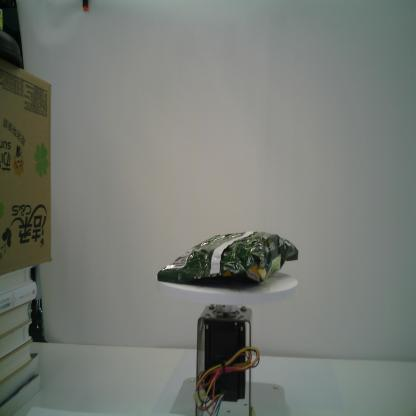Instant Noodles: (158, 230, 298, 285)
